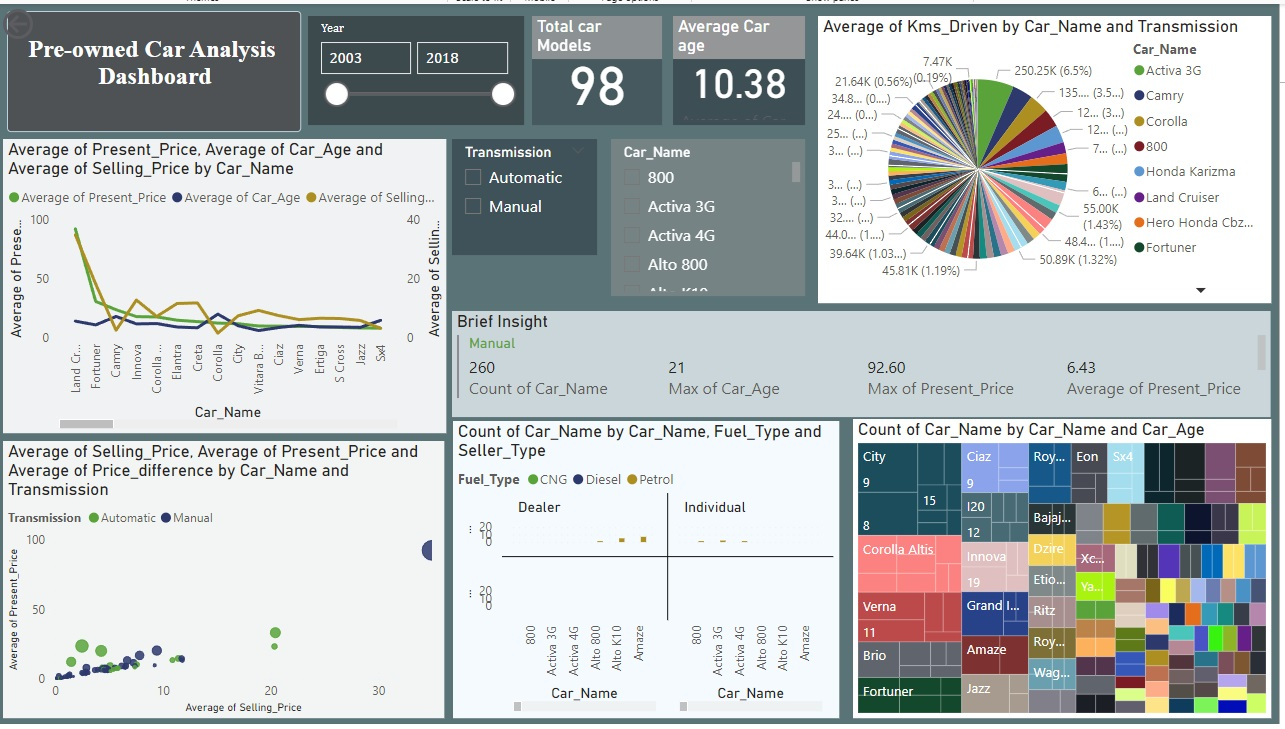

This screenshot's page, from the dashboard's own definition file:
{"tool":"powerbi","page":{"name":"Page 1","canvas":[1280,720],"ordinal":0},"visuals":[{"type":"textbox","box":[8.8,6.8,293.7,120.6],"z":0},{"type":"clusteredColumnChart","fields":{"Series":["car.Fuel_Type"],"Category":["car.Car_Name"],"Rows":["car.Seller_Type"],"Y":["CountNonNull(car.Car_Name)"]},"box":[454.6,416.7,385.7,296.8],"z":1000},{"type":"lineChart","fields":{"Category":["car.Car_Name"],"Y2":["Avg(car.Selling_Price)"],"Y":["Avg(car.Present_Price)","Avg(car.Car_Age)"]},"box":[5,134.9,442.7,293.8],"z":3000},{"type":"slicer","fields":{"Values":["car.Year"]},"box":[309.8,12,215.8,108.9],"z":4000},{"type":"scatterChart","fields":{"Category":["car.Car_Name"],"X":["Avg(car.Selling_Price)"],"Y":["Avg(car.Present_Price)"],"Size":["Avg(car.Price_difference)"],"Series":["car.Transmission"]},"box":[5,436.7,440.7,276.8],"z":5000},{"type":"card","title":"Total car Models","fields":{"Values":["Count(car.Car_Name)"]},"box":[533.6,12,129.9,108.9],"z":6000},{"type":"actionButton","box":[0,0,100,40],"z":7000},{"type":"treemap","fields":{"Group":["car.Car_Name"],"Details":["car.Car_Age"],"Values":["CountNonNull(car.Car_Name)"]},"box":[854.3,414.7,417.7,298.8],"z":8000},{"type":"multiRowCard","title":"Brief Insight","fields":{"Values":["car.Car_Name","Max(car.Car_Age)","car.Transmission","Max(car.Present_Price)","Avg(car.Present_Price)1"]},"box":[453.6,306.8,818.4,105.9],"z":9000},{"type":"pieChart","fields":{"Category":["car.Car_Name"],"Y":["Avg(car.Kms_Driven)"],"Series":["car.Transmission"]},"box":[819.4,12,452.6,286.8],"z":10000},{"type":"card","title":"Average Car age","fields":{"Values":["Avg(car.Car_Age)"]},"box":[674.5,12,131.9,108.9],"z":11000},{"type":"slicer","fields":{"Values":["car.Transmission"]},"box":[453.6,134.9,144.9,115.9],"z":11001},{"type":"slicer","fields":{"Values":["car.Car_Name"]},"box":[612.5,134.9,193.8,156.9],"z":11002}]}

Visuals, with their boxes in screenshot pixels (x1, y1, x2, y2), scaled from the page's 1280x720 canvas onto the 1285x729 screenshot:
textbox: region(9, 7, 304, 129)
clusteredColumnChart - car.Fuel_Type x car.Car_Name: region(456, 422, 844, 722)
lineChart - car.Car_Name x Avg(car.Selling_Price): region(5, 137, 449, 434)
slicer - car.Year: region(311, 12, 528, 122)
scatterChart - car.Car_Name x Avg(car.Selling_Price): region(5, 442, 447, 722)
"Total car Models" card: region(536, 12, 666, 122)
actionButton: region(0, 0, 100, 40)
treemap - car.Car_Name x car.Car_Age: region(858, 420, 1277, 722)
"Brief Insight" multiRowCard: region(455, 311, 1277, 418)
pieChart - car.Car_Name x Avg(car.Kms_Driven): region(823, 12, 1277, 303)
"Average Car age" card: region(677, 12, 810, 122)
slicer - car.Transmission: region(455, 137, 601, 254)
slicer - car.Car_Name: region(615, 137, 809, 295)
